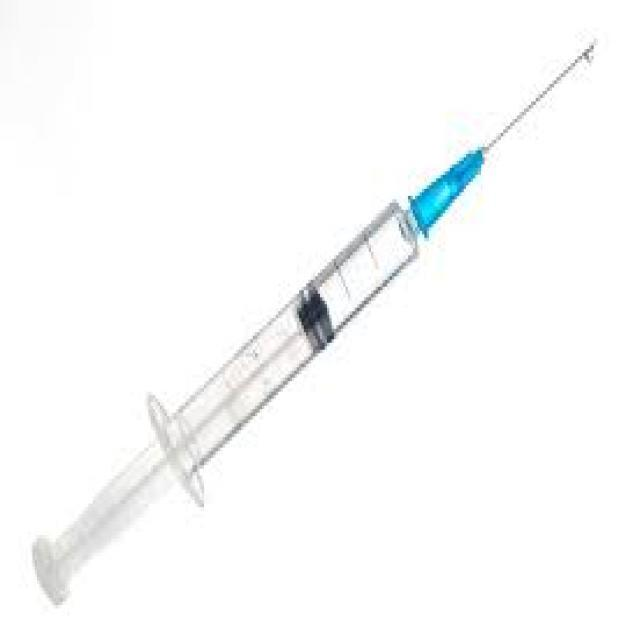syringe: (49, 24, 621, 604)
